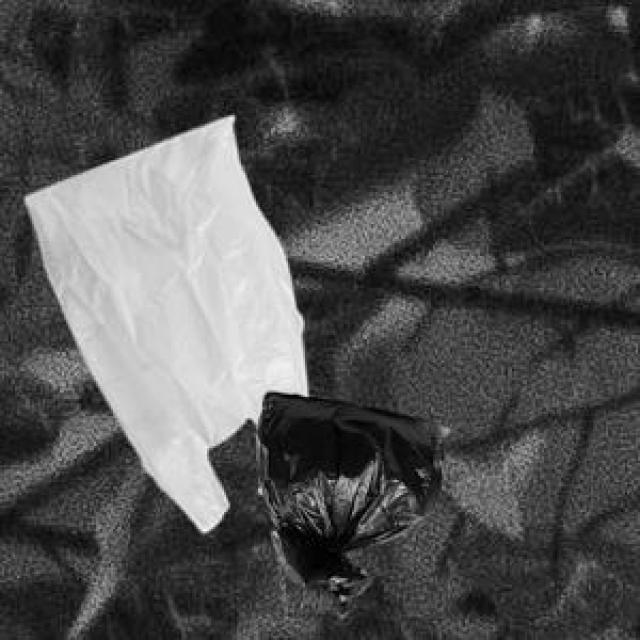miscellaneous trash: (252, 388, 446, 614)
